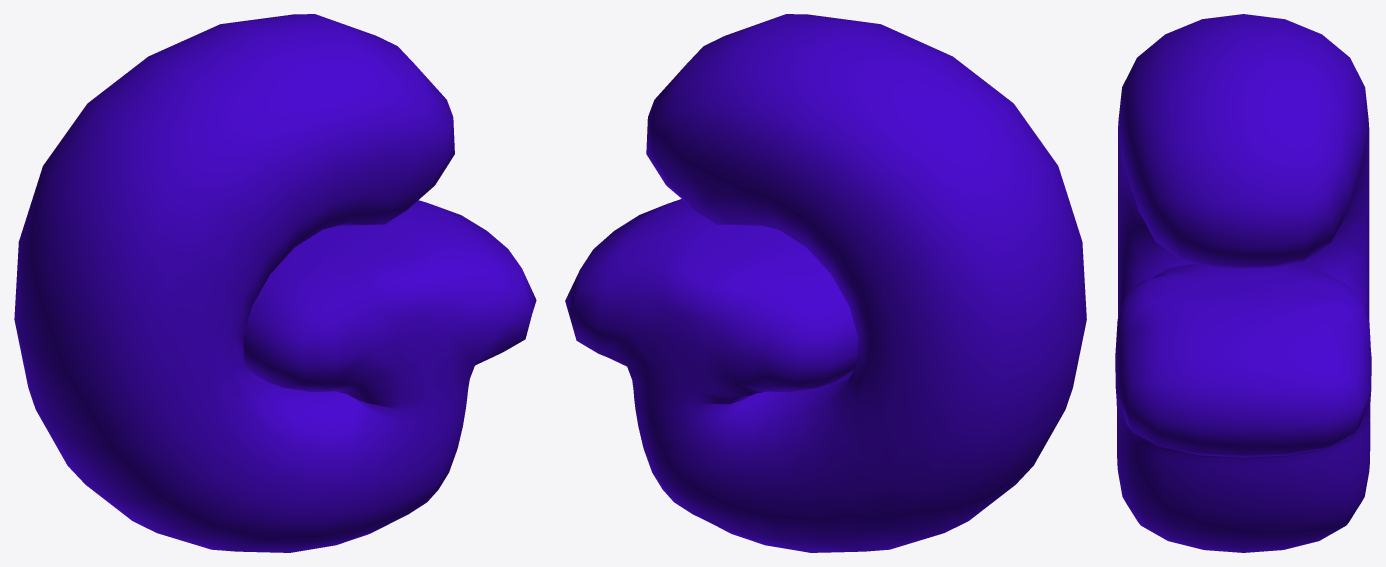
3 renders of one model, left to right at view 1: azimuth 30°, elevation 25°; view 2: azimuth 150°, elevation 25°; view 3: azimuth 270°, elevation 25°, orthographic. The views are drawn at different scales.
Visible parts, largest first — view 1: G_7; view 2: G_7; view 3: G_7.
Boxes of the visible parts, box(x1,y1,x2,y2) form: G_7: box(14, 14, 536, 552); G_7: box(565, 14, 1086, 552); G_7: box(1115, 14, 1371, 552).
Size of the model in its own units: 93.7 by 97.35 by 46.8.
